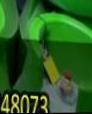cylinder: (0, 1, 92, 114)
